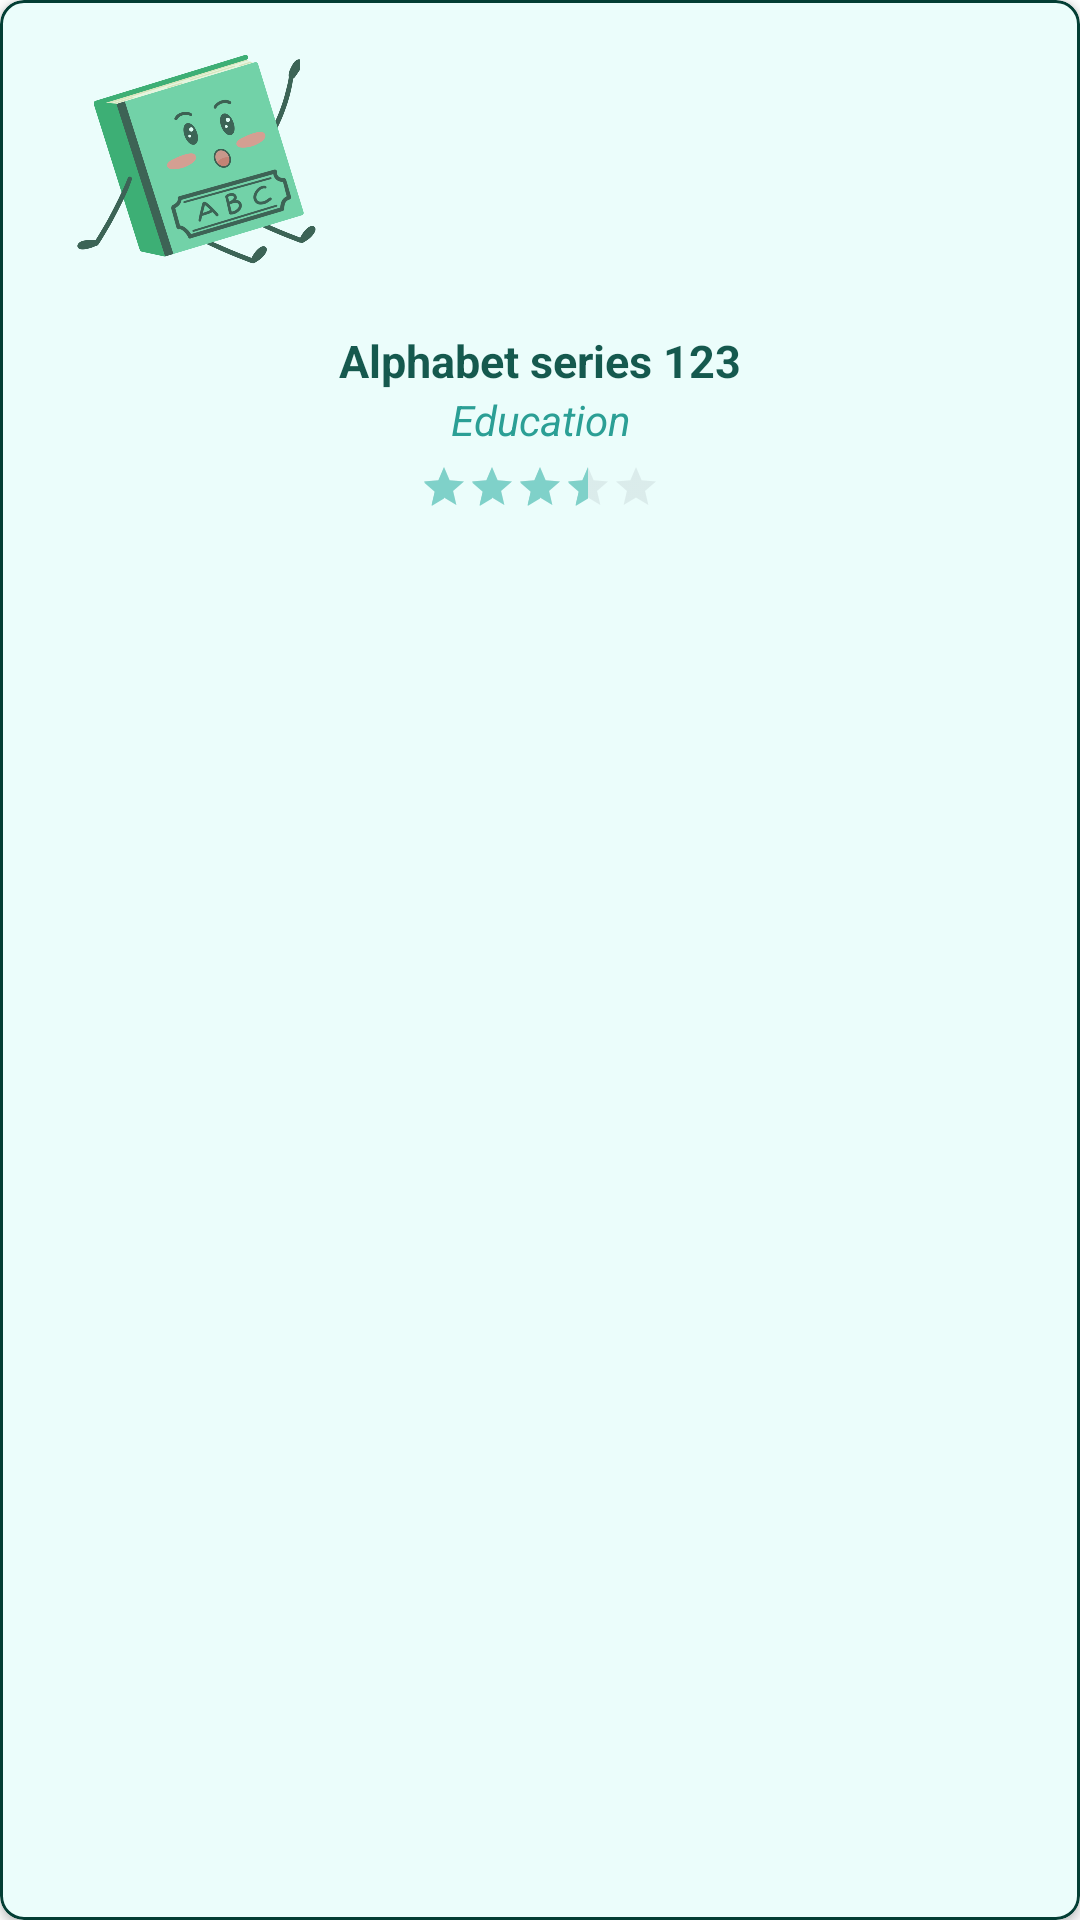

Icons on this 1080px x 1920px Android screen, each with its box as Rect(x1, y1, x2, y2):
book: Rect(77, 55, 316, 263)
